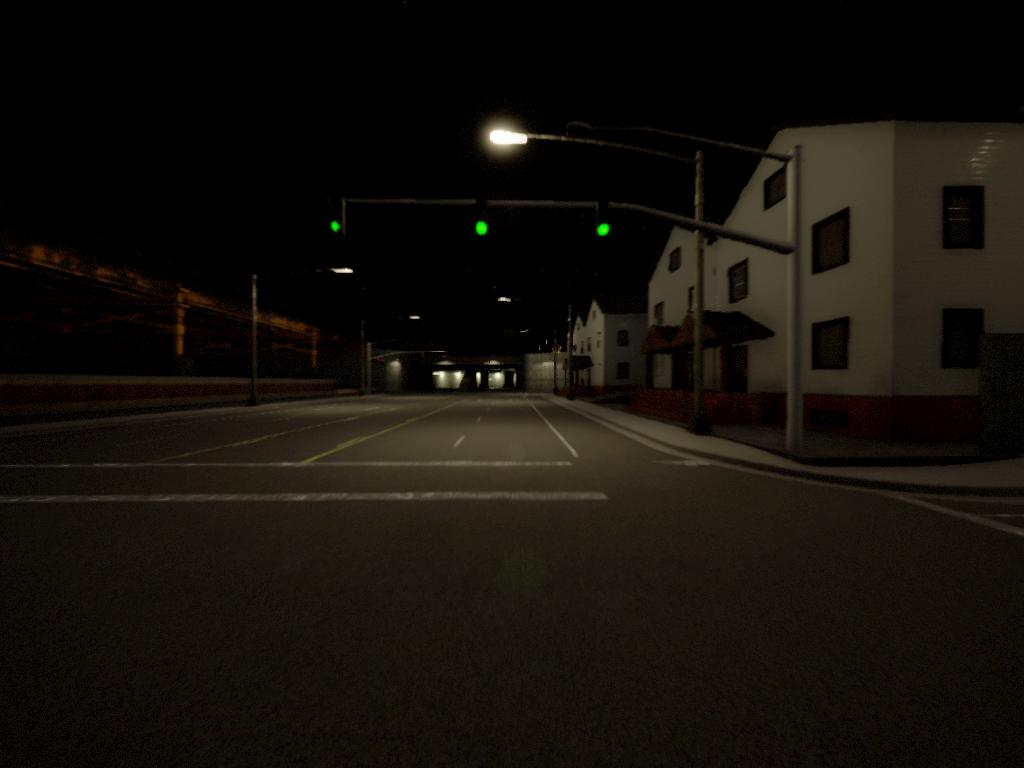traffic_light: (328, 201, 349, 239), (598, 203, 616, 242), (475, 208, 493, 243)
